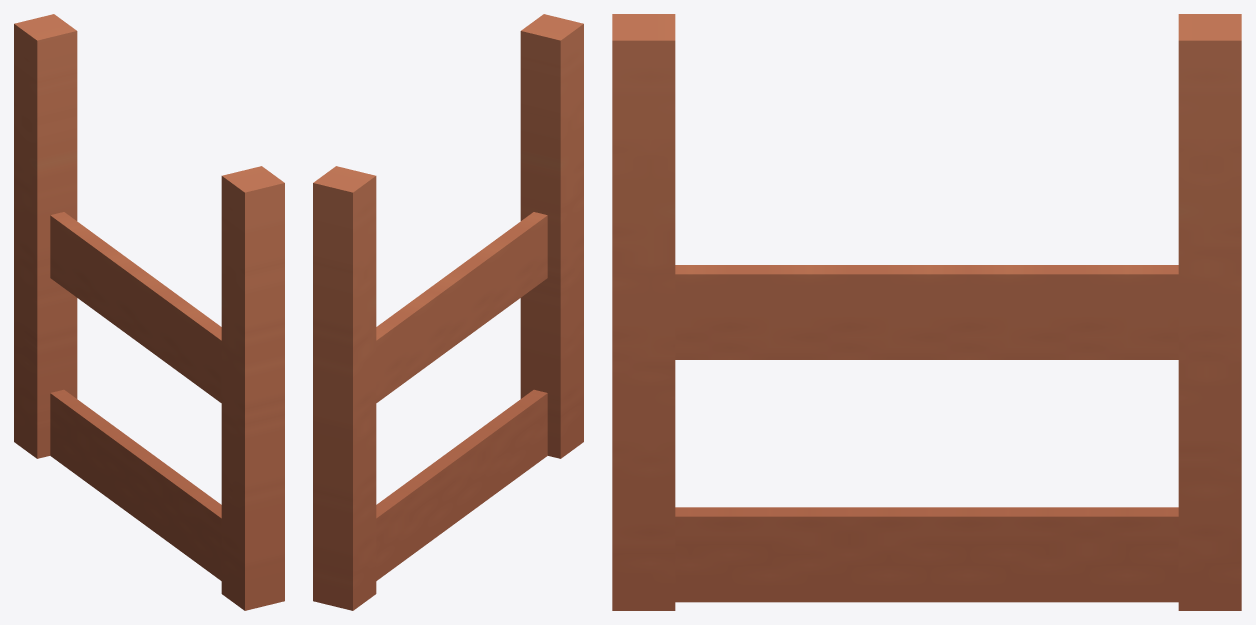
The model's file is polesHorizontal.fbx.
3 views of the same model, side by side, from view 1: azimuth 30°, elevation 25°; view 2: azimuth 150°, elevation 25°; view 3: azimuth 270°, elevation 25° (orthographic). The views are drawn at different scales.
Parts seen in each view (by area): view 1: polesHorizontal; view 2: polesHorizontal; view 3: polesHorizontal.
Part boxes in pixels (x1,y1,x2,y2): polesHorizontal: [14, 14, 284, 610]; polesHorizontal: [313, 14, 583, 610]; polesHorizontal: [612, 14, 1241, 610].
Size of the model in its own units: 0.1 by 1 by 1.
